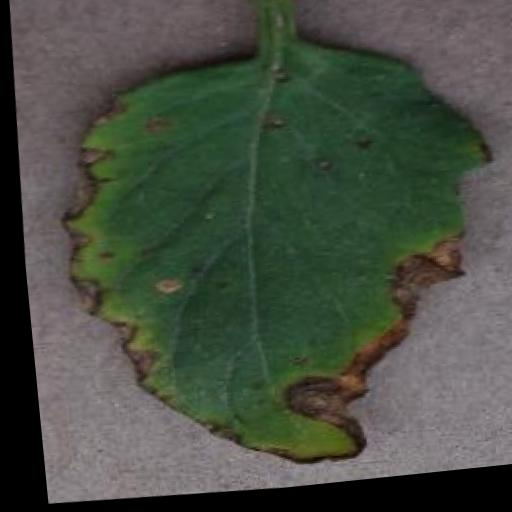Bacterial Spot: (21, 13, 512, 507)
